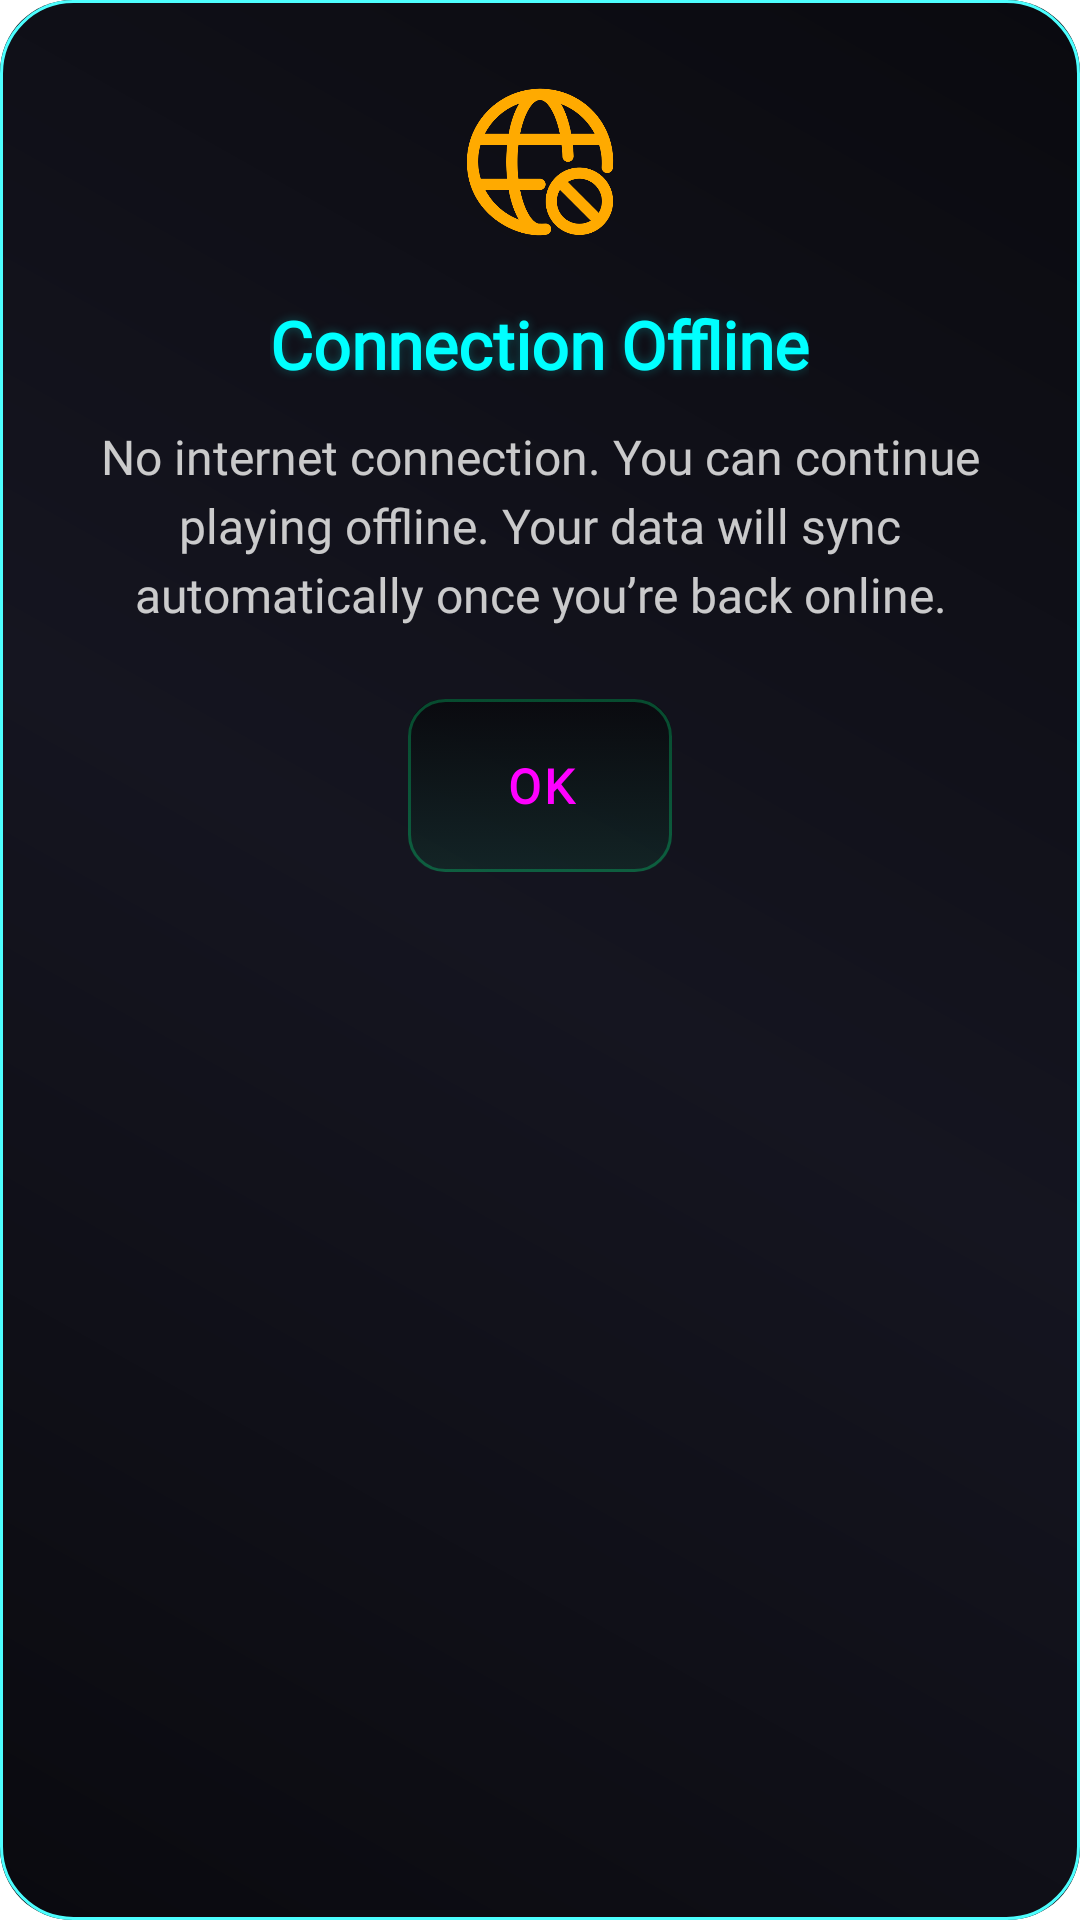

Icons on this 1080x1920 Android screen, each with its box as (x1, y1, x2, y2):
no internet: (467, 88, 613, 236)
